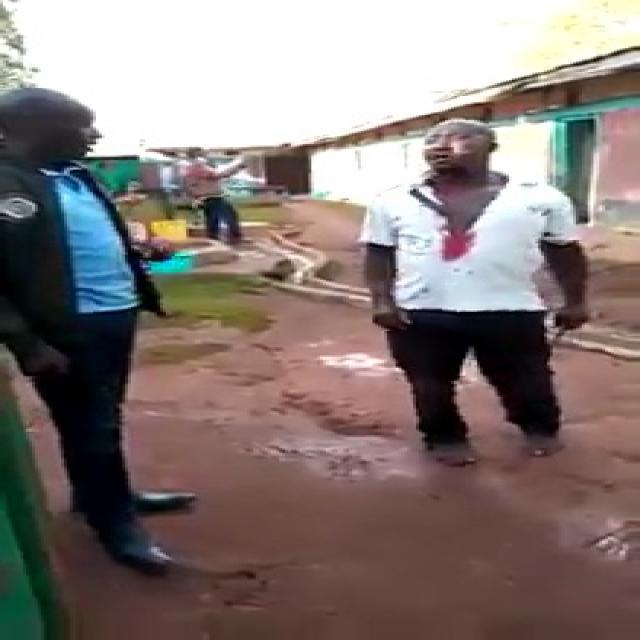Knife: (548, 322, 568, 350)
Knife_Handle: (546, 302, 588, 352)
